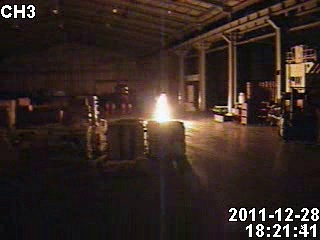fire: (148, 88, 172, 124)
